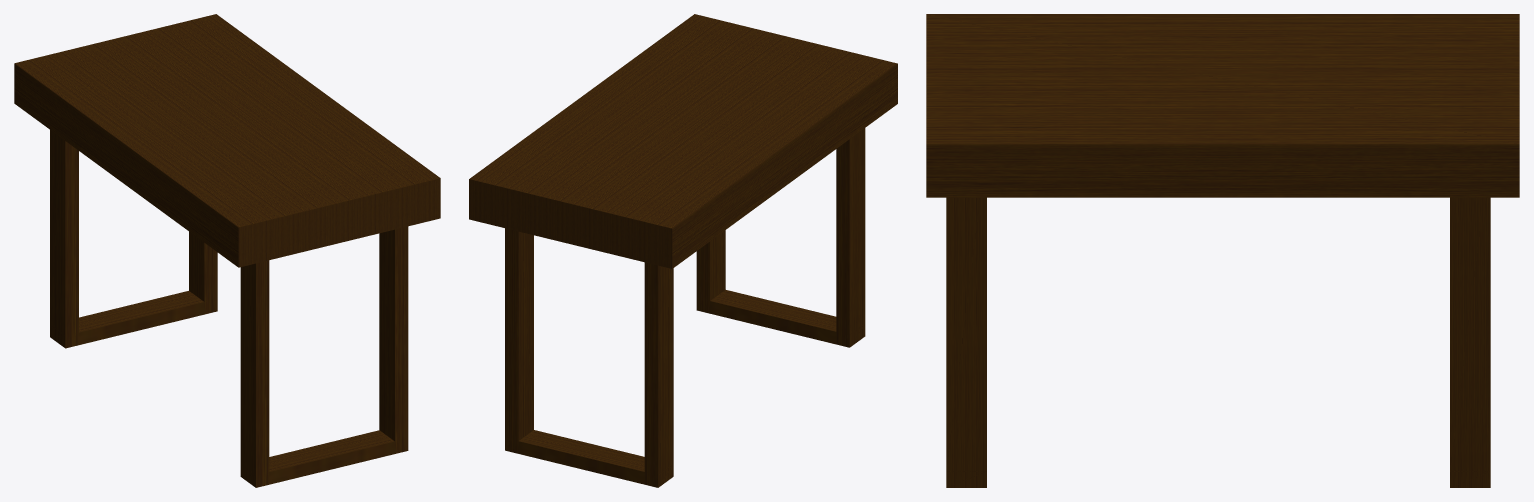
The model's file is Woodentable.fbx.
The picture shows the model from 3 angles, left to right: view 1: azimuth 30°, elevation 25°; view 2: azimuth 150°, elevation 25°; view 3: azimuth 270°, elevation 25°; orthographic projection. The views are drawn at different scales.
Visible parts, largest first — view 1: table, leg1, leg; view 2: table, leg, leg1; view 3: table, leg, leg1.
Part boxes in pixels (x1=…): table: x1=14, y1=14, x2=440, y2=267; leg1: x1=240, y1=226, x2=408, y2=487; leg: x1=50, y1=130, x2=217, y2=348; table: x1=469, y1=14, x2=897, y2=268; leg: x1=505, y1=228, x2=673, y2=487; leg1: x1=696, y1=128, x2=865, y2=347; table: x1=926, y1=14, x2=1519, y2=197; leg: x1=1450, y1=197, x2=1490, y2=487; leg1: x1=946, y1=197, x2=986, y2=487.
Bounding box in the file's own units: 4.37 × 5.62 × 8.4.
